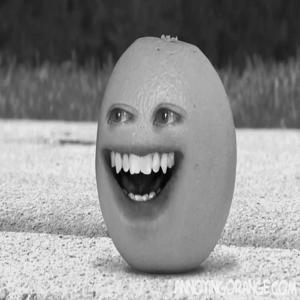fruit: (94, 22, 243, 268)
